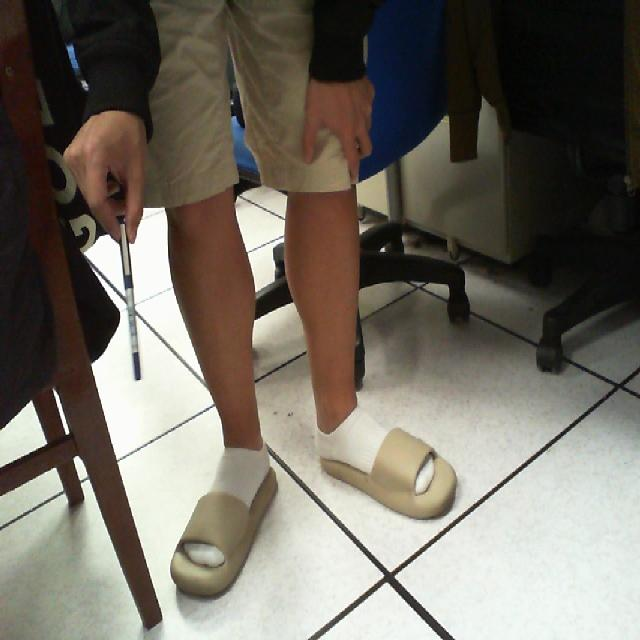Pen: (100, 193, 154, 401)
